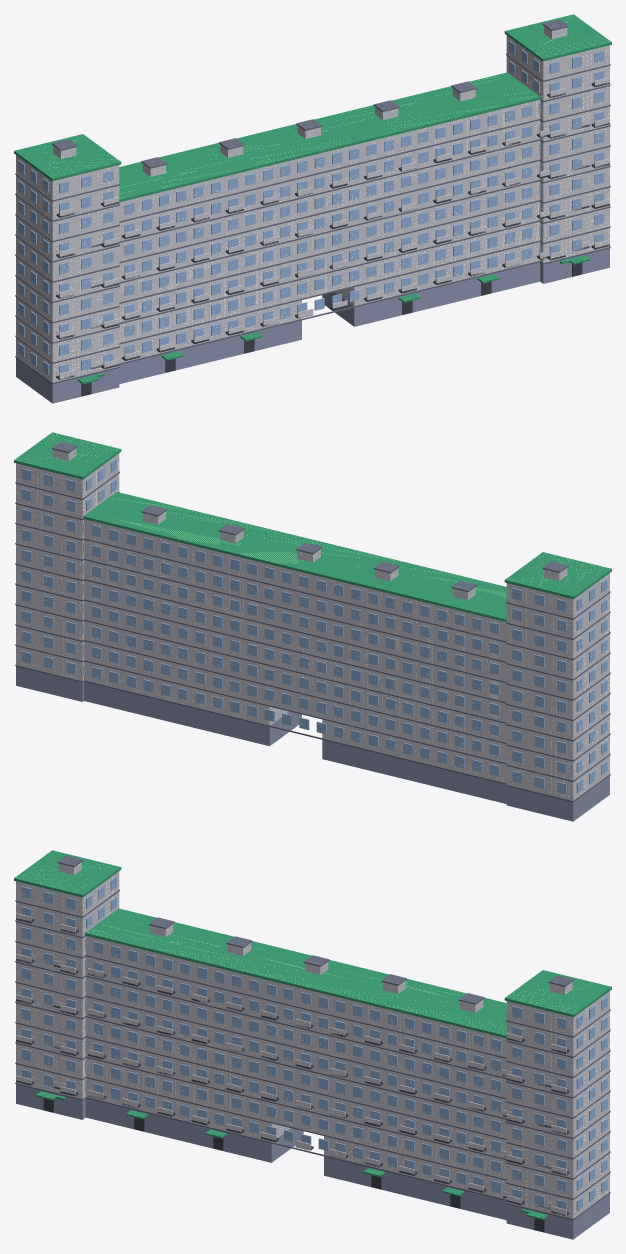
Rendered from panel-7x1-l2.glb.
3 views of the same model, one above another, from view 1: azimuth 30°, elevation 25°; view 2: azimuth 150°, elevation 25°; view 3: azimuth 330°, elevation 25° (orthographic).
Visible parts, largest first — view 1: panel-7x1-l2; view 2: panel-7x1-l2; view 3: panel-7x1-l2.
Part boxes in pixels (x1,y1,x2,y2): panel-7x1-l2: [14, 14, 611, 403]; panel-7x1-l2: [14, 432, 611, 821]; panel-7x1-l2: [14, 850, 611, 1239].
Size of the model in its own units: 13.86 by 5.57 by 1.83.
1 material, 1 textured.
